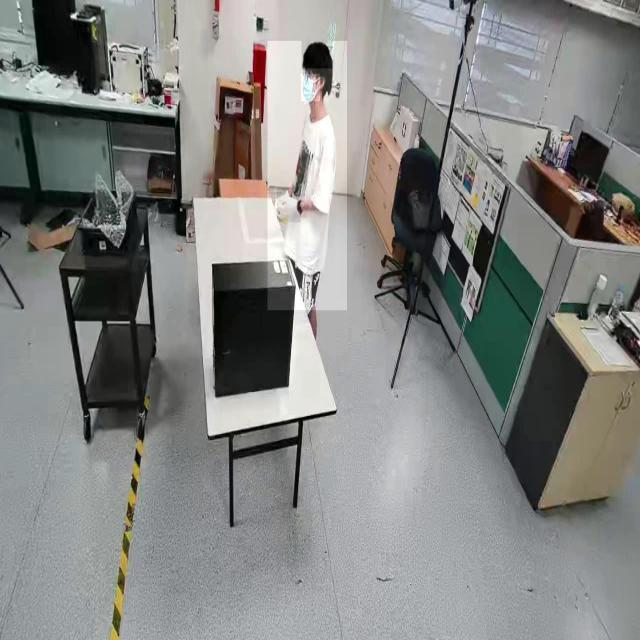face_mask: (301, 74, 321, 102)
hand_glove: (277, 187, 302, 223)
head_nohelmet: (301, 41, 333, 69)
person: (268, 41, 348, 311)
